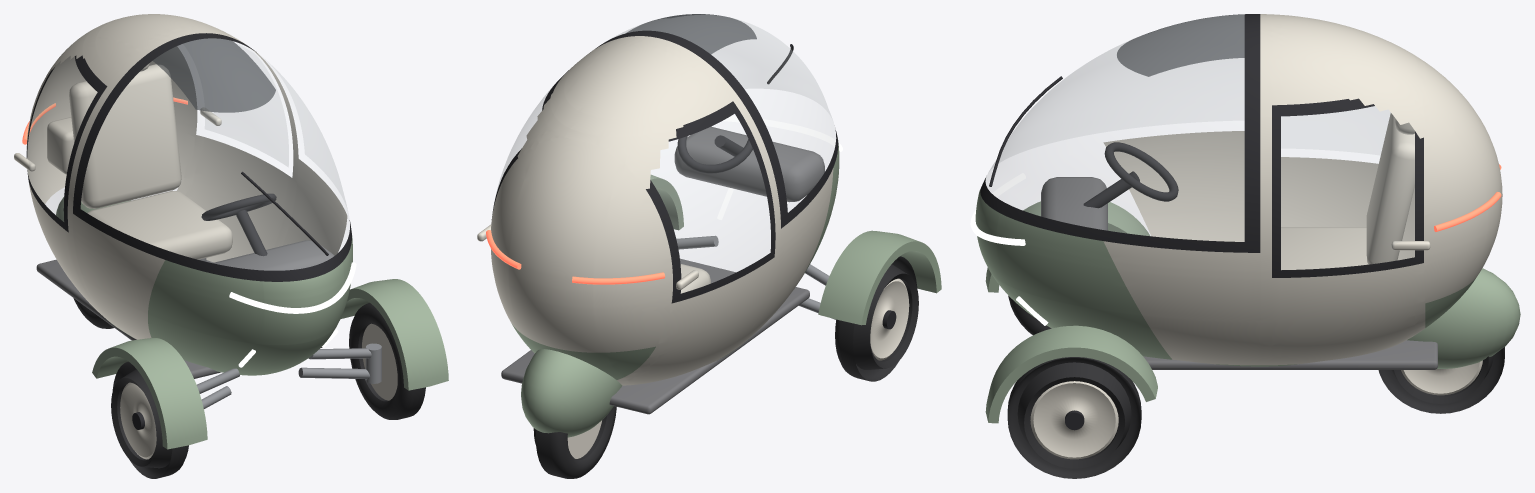
File: personal-trike.glb
The picture shows the model from 3 angles, left to right: view 1: azimuth 30°, elevation 25°; view 2: azimuth 150°, elevation 25°; view 3: azimuth 270°, elevation 25°; orthographic projection. The views are drawn at different scales.
Visible parts, largest first — view 1: trike_body, trike_backrest, trike_fender-1, trike_fender+1, trike_seat, trike_wheel_front-1, trike_wheel_front+1, trike_dash, trike_floor, trike_basket, trike_headbar, trike_steering (+5 smaller); view 2: trike_body, trike_tail_pod, trike_wheel_front-1, trike_fender-1, trike_dash, trike_floor, trike_wheel_rear, trike_steering, trike_fender+1, trike_tail-1, trike_headbar; view 3: trike_body, trike_wheel_front+1, trike_tail_pod, trike_fender+1, trike_backrest, trike_wheel_rear, trike_seat, trike_floor, trike_dash, trike_steering, trike_fender-1, trike_headbar (+1 smaller).
Boxes of the visible parts, left/top/right/bottom form: trike_body: left=26, top=14, right=352, bottom=375; trike_backrest: left=69, top=64, right=181, bottom=208; trike_fender-1: left=92, top=338, right=207, bottom=449; trike_fender+1: left=340, top=279, right=448, bottom=390; trike_seat: left=87, top=190, right=232, bottom=259; trike_wheel_front-1: left=111, top=361, right=188, bottom=478; trike_wheel_front+1: left=349, top=302, right=425, bottom=419; trike_dash: left=212, top=240, right=334, bottom=270; trike_floor: left=36, top=259, right=322, bottom=378; trike_basket: left=47, top=117, right=73, bottom=174; trike_headbar: left=229, top=262, right=356, bottom=313; trike_steering: left=201, top=193, right=276, bottom=220; trike_body: left=491, top=14, right=839, bottom=385; trike_tail_pod: left=521, top=349, right=622, bottom=437; trike_wheel_front-1: left=835, top=256, right=918, bottom=381; trike_fender-1: left=818, top=230, right=941, bottom=325; trike_dash: left=674, top=126, right=824, bottom=202; trike_floor: left=501, top=258, right=809, bottom=414; trike_wheel_rear: left=533, top=406, right=616, bottom=478; trike_steering: left=677, top=136, right=752, bottom=173; trike_fender+1: left=650, top=174, right=683, bottom=230; trike_tail-1: left=572, top=272, right=665, bottom=284; trike_headbar: left=723, top=115, right=842, bottom=151; trike_body: left=975, top=14, right=1502, bottom=366; trike_wheel_front+1: left=1007, top=357, right=1141, bottom=478; trike_tail_pod: left=1407, top=268, right=1520, bottom=368; trike_fender+1: left=985, top=325, right=1157, bottom=423; trike_backrest: left=1366, top=113, right=1414, bottom=264; trike_wheel_rear: left=1378, top=347, right=1504, bottom=413; trike_seat: left=1281, top=227, right=1368, bottom=270; trike_floor: left=1143, top=340, right=1437, bottom=369; trike_dash: left=1041, top=177, right=1107, bottom=230; trike_steering: left=1104, top=142, right=1178, bottom=201; trike_fender-1: left=985, top=201, right=1150, bottom=292; trike_headbar: left=970, top=173, right=1025, bottom=245.
Size of the model in its own units: 1.4 by 1.65 by 2.13.
